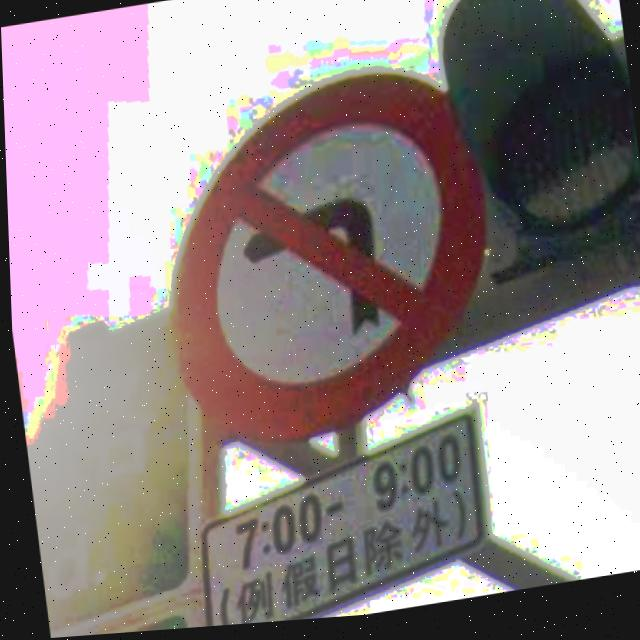noturnleft: (136, 55, 510, 466)
